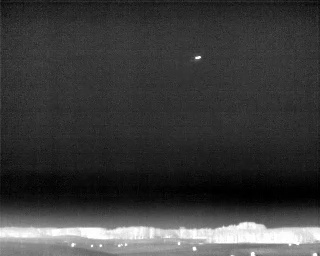AIRPLANE: (192, 53, 203, 63)
